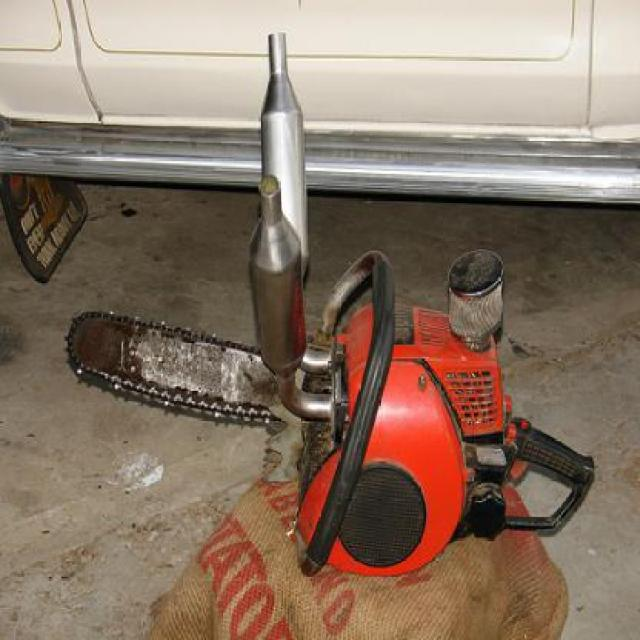Chainsaw: (58, 238, 611, 582)
